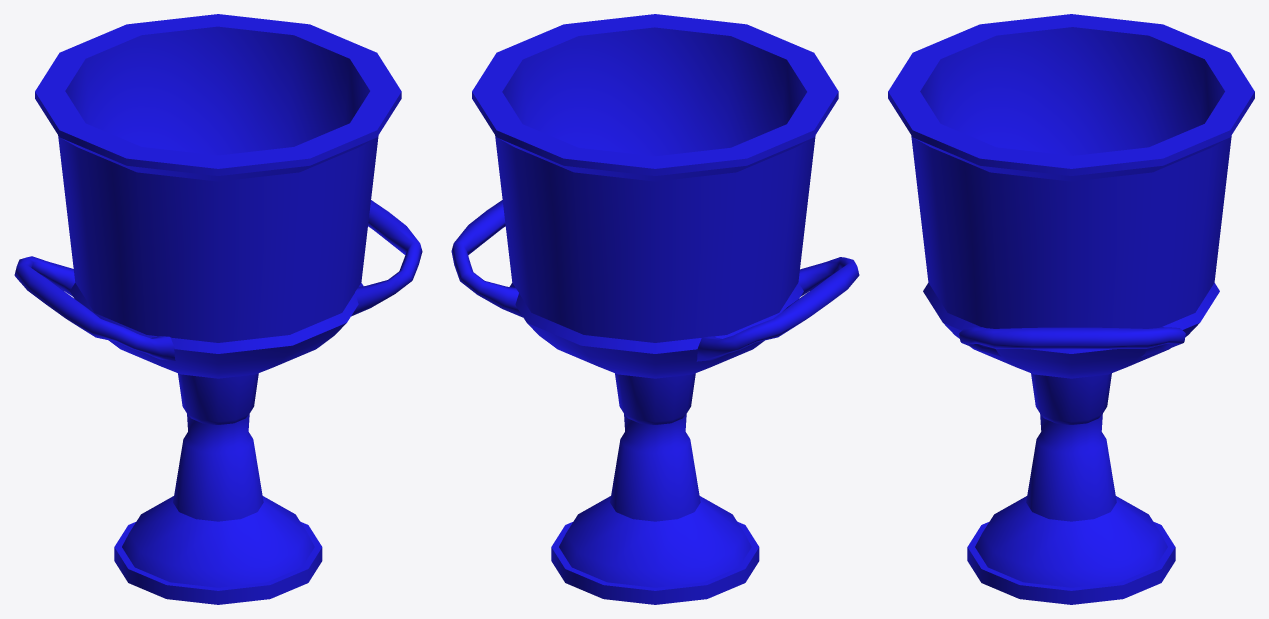
File: copa_Generica_1_sin_asas.FBX
3 views of the same model, side by side, from view 1: azimuth 30°, elevation 25°; view 2: azimuth 150°, elevation 25°; view 3: azimuth 270°, elevation 25° (orthographic).
Parts seen in each view (by area): view 1: copa_Generica_1_sin_asas; view 2: copa_Generica_1_sin_asas; view 3: copa_Generica_1_sin_asas.
Boxes of the visible parts, bbox=[...] form: copa_Generica_1_sin_asas: bbox=[14, 14, 422, 604]; copa_Generica_1_sin_asas: bbox=[451, 14, 859, 604]; copa_Generica_1_sin_asas: bbox=[888, 14, 1254, 604].
Size of the model in its own units: 59.6 by 77.1 by 54.58.
